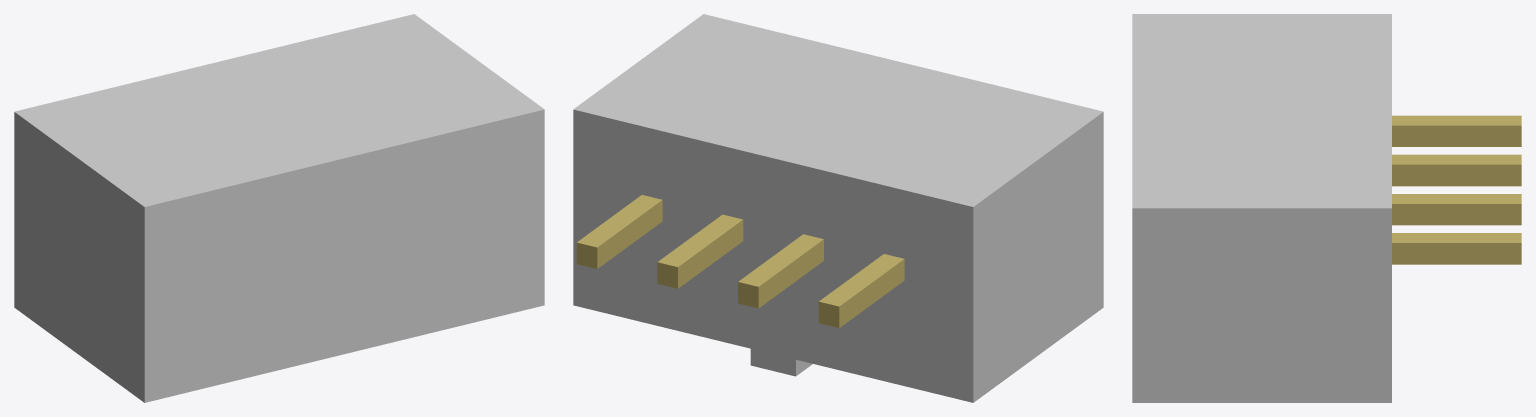
The model's file is yeonho_smw250_04p.glb.
3 renders of one model, left to right at view 1: azimuth 30°, elevation 25°; view 2: azimuth 150°, elevation 25°; view 3: azimuth 270°, elevation 25°, orthographic.
Parts seen in each view (by area): view 1: housing; view 2: housing, pins; view 3: housing, pins.
Part boxes in pixels (left/top/right/bottom): housing: left=14, top=14, right=544, bottom=402; housing: left=573, top=14, right=1103, bottom=402; pins: left=576, top=195, right=904, bottom=328; housing: left=1132, top=14, right=1391, bottom=402; pins: left=1392, top=115, right=1521, bottom=264.
Size of the model in its own units: 12.4 by 6.3 by 10.5.
